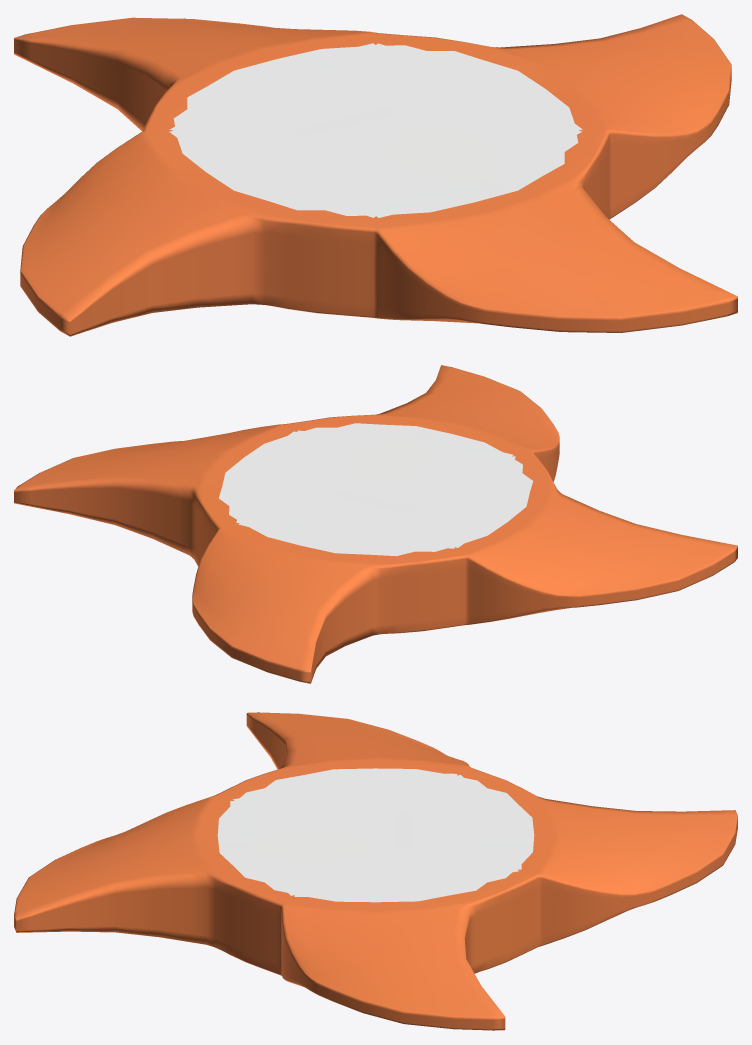
File: Saw1.fbx
3 views of the same model, one above another, from view 1: azimuth 30°, elevation 25°; view 2: azimuth 150°, elevation 25°; view 3: azimuth 270°, elevation 25° (orthographic). The views are drawn at different scales.
Visible parts, largest first — view 1: Saw1; view 2: Saw1; view 3: Saw1.
Part boxes in pixels (x1,y1,x2,y2): Saw1: [14, 14, 737, 336]; Saw1: [14, 365, 737, 683]; Saw1: [14, 712, 737, 1030].
Bounding box in the file's own units: 26.07 × 2.87 × 26.07.
1 material, 1 textured.
